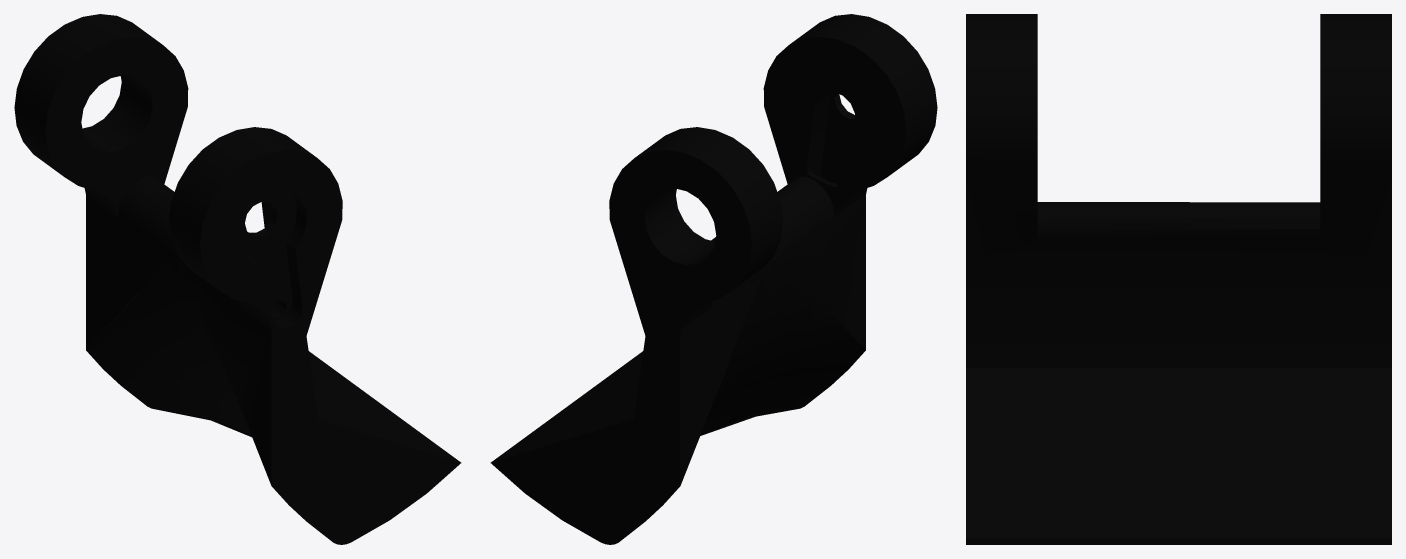
The model's file is kovsh.fbx.
3 renders of one model, left to right at view 1: azimuth 30°, elevation 25°; view 2: azimuth 150°, elevation 25°; view 3: azimuth 270°, elevation 25°, orthographic. The views are drawn at different scales.
Parts seen in each view (by area): view 1: kovsh.001; view 2: kovsh.001; view 3: kovsh.001.
Boxes of the visible parts, x1,y1,x2,y2 form: kovsh.001: (14,14,461,544); kovsh.001: (490,14,937,544); kovsh.001: (966,14,1391,544).
Size of the model in its own units: 4.75 by 7.13 by 5.84.
Materials: 1 (1 with a texture image).
